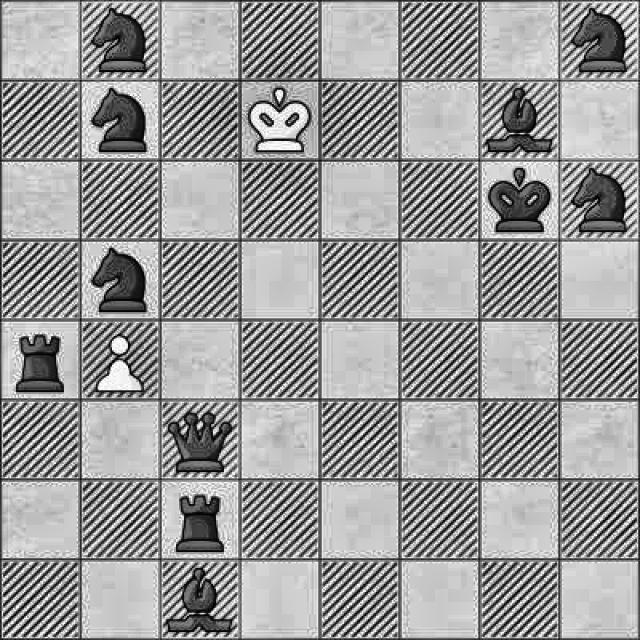Black Knight: (81, 2, 158, 79), (77, 88, 160, 156), (564, 166, 634, 236), (86, 250, 155, 316), (568, 7, 630, 80)
black bishop: (165, 564, 236, 639), (485, 83, 553, 157)
black king: (486, 166, 554, 237)
black queen: (162, 406, 235, 473)
black rook: (11, 326, 68, 398), (168, 487, 230, 552)
white king: (244, 83, 317, 165)
white pawn: (92, 331, 146, 395)
